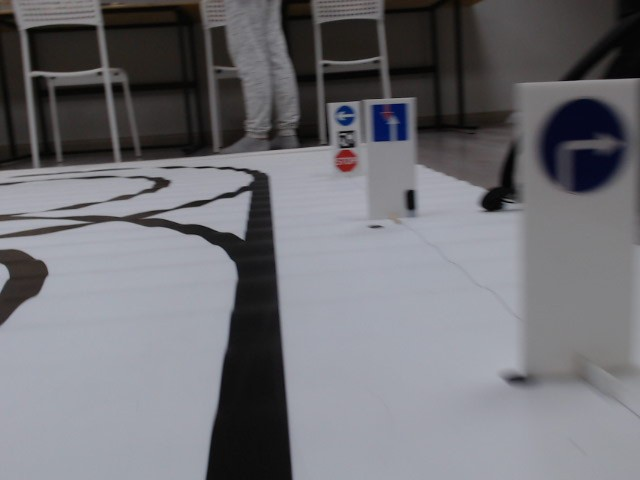Right: (535, 101, 637, 200)
Stop: (336, 149, 357, 173)
priority_movement: (370, 103, 412, 144)
